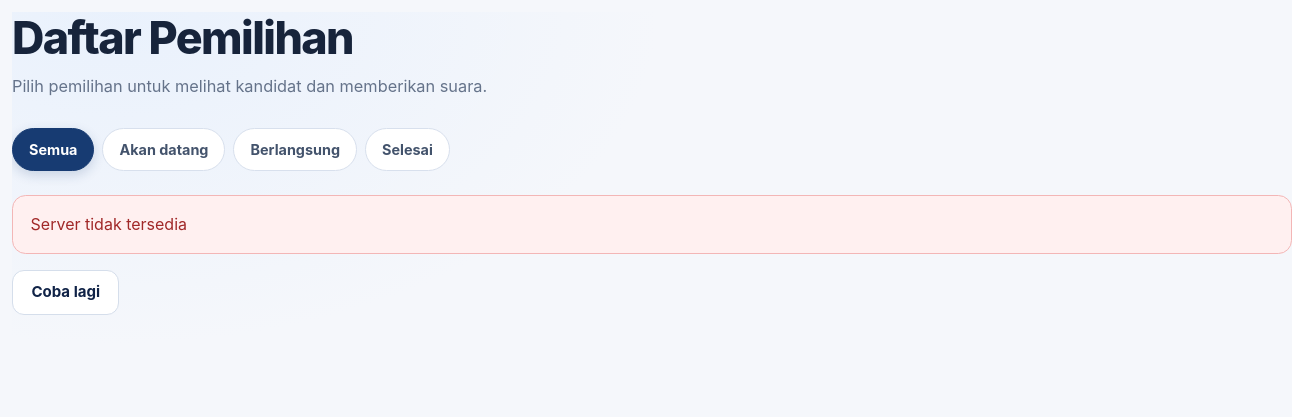
Test: ElectionsPage › menampilkan error dan dapat mencoba lagi
The width and height of the screenshot is (1292, 417).
Expected: the message reads "Server tidak tersedia", [31, 214, 187, 234]
Step 1. Click the button "Coba lagi" → (66, 292), box [12, 270, 119, 315]
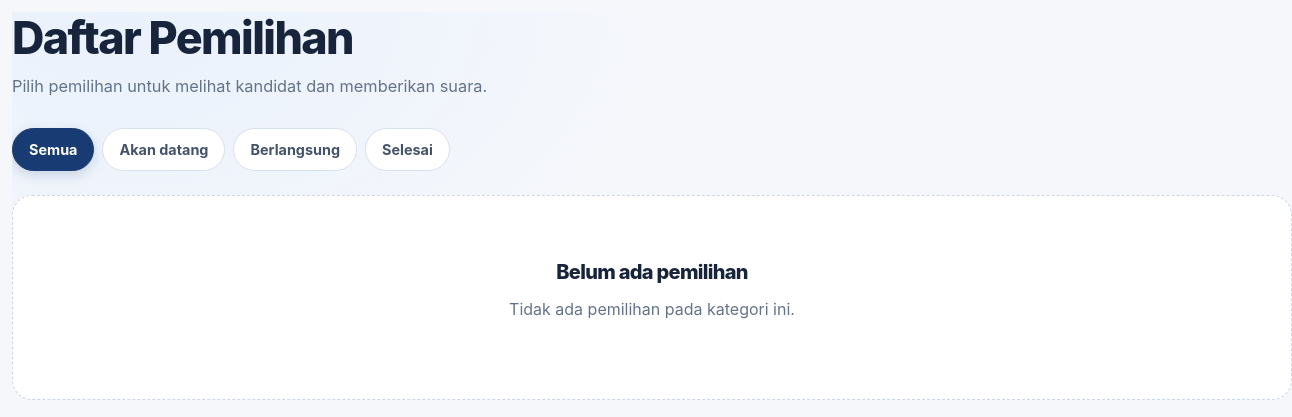
Expected: the heading "Belum ada pemilihan" is shown, [556, 260, 748, 284]
